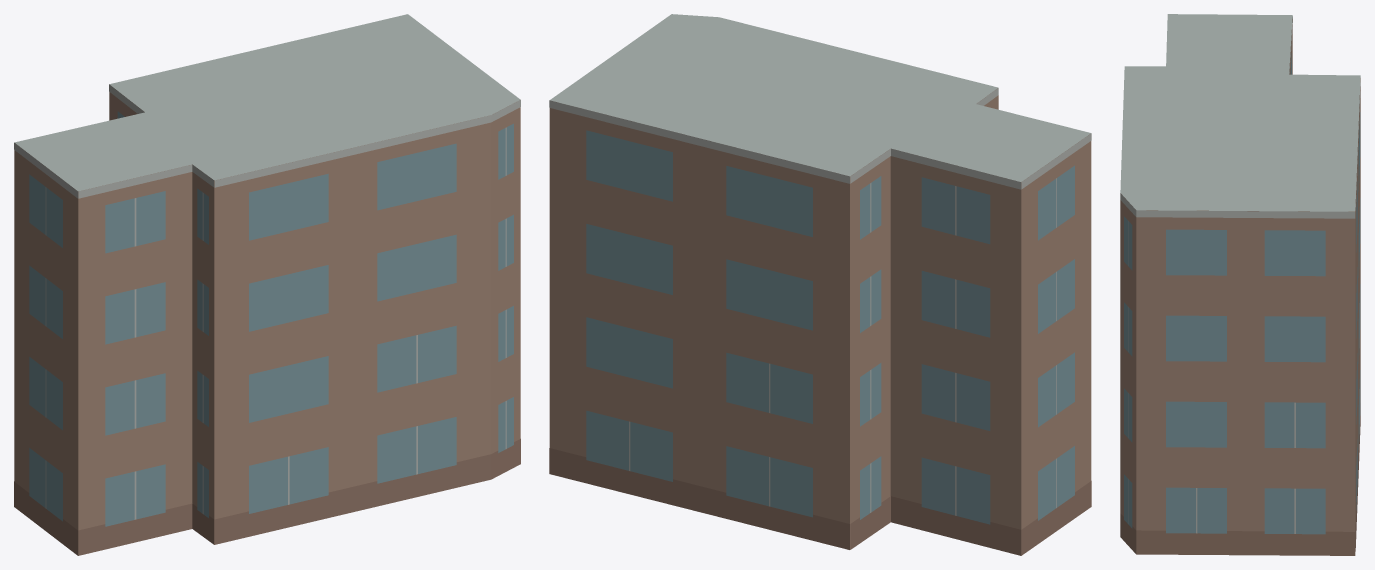
File: survey-upis-32986379.glb
3 views of the same model, side by side, from view 1: azimuth 30°, elevation 25°; view 2: azimuth 150°, elevation 25°; view 3: azimuth 270°, elevation 25° (orthographic). The views are drawn at different scales.
Visible parts, largest first — view 1: survey-upis-32986379.tmp; view 2: survey-upis-32986379.tmp; view 3: survey-upis-32986379.tmp.
Boxes of the visible parts, x1=… form: survey-upis-32986379.tmp: x1=14, y1=14, x2=520, y2=555; survey-upis-32986379.tmp: x1=549, y1=14, x2=1091, y2=555; survey-upis-32986379.tmp: x1=1120, y1=14, x2=1360, y2=555.
Bounding box in the file's own units: 14.92 × 12.1 × 7.67.
